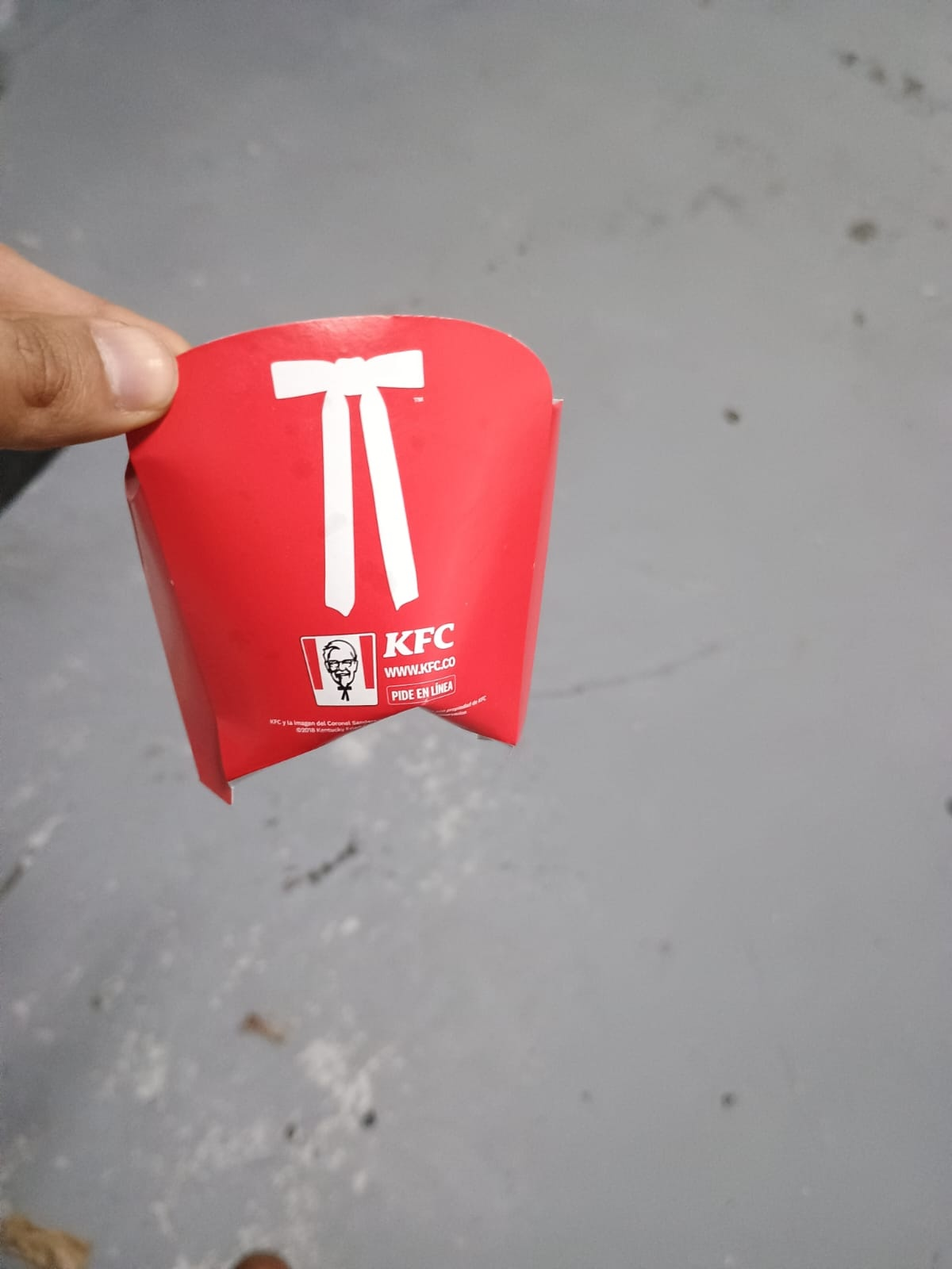Carton: (117, 313, 563, 811)
